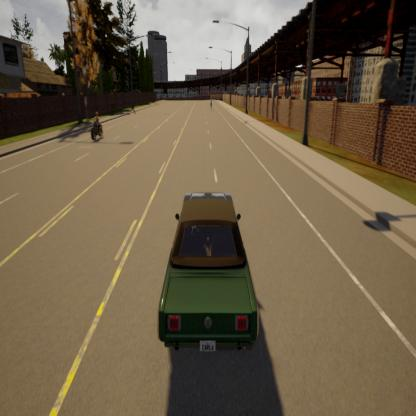Cars: (152, 182, 270, 360)
